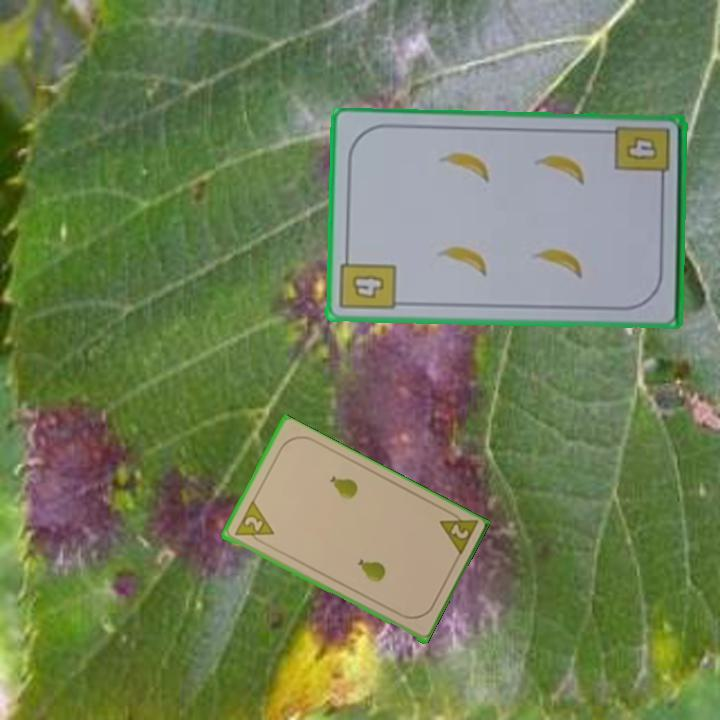2p: (435, 506, 480, 560), (230, 499, 276, 548)
4b: (337, 249, 399, 314), (612, 123, 673, 189)
